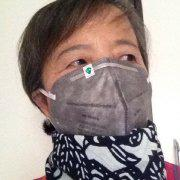OK: (47, 36, 152, 141)
